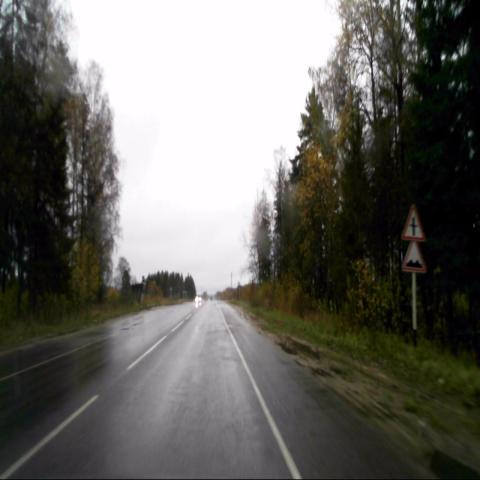1_16: (401, 241, 427, 272)
